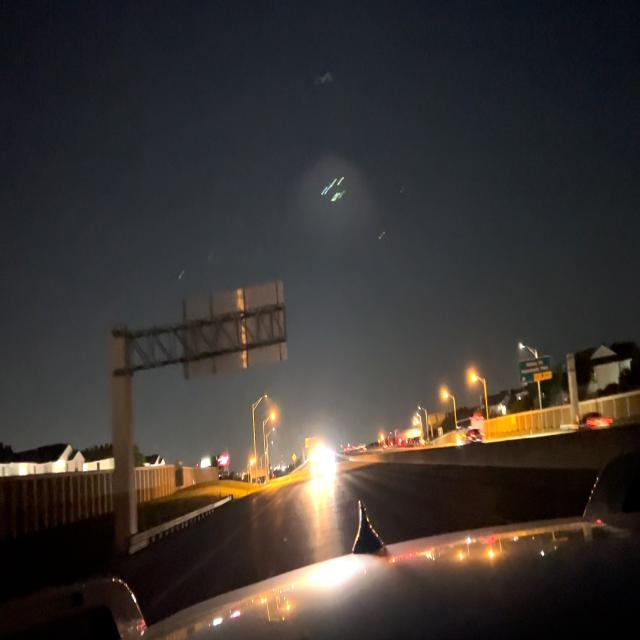back-of-sign: (182, 277, 287, 379)
